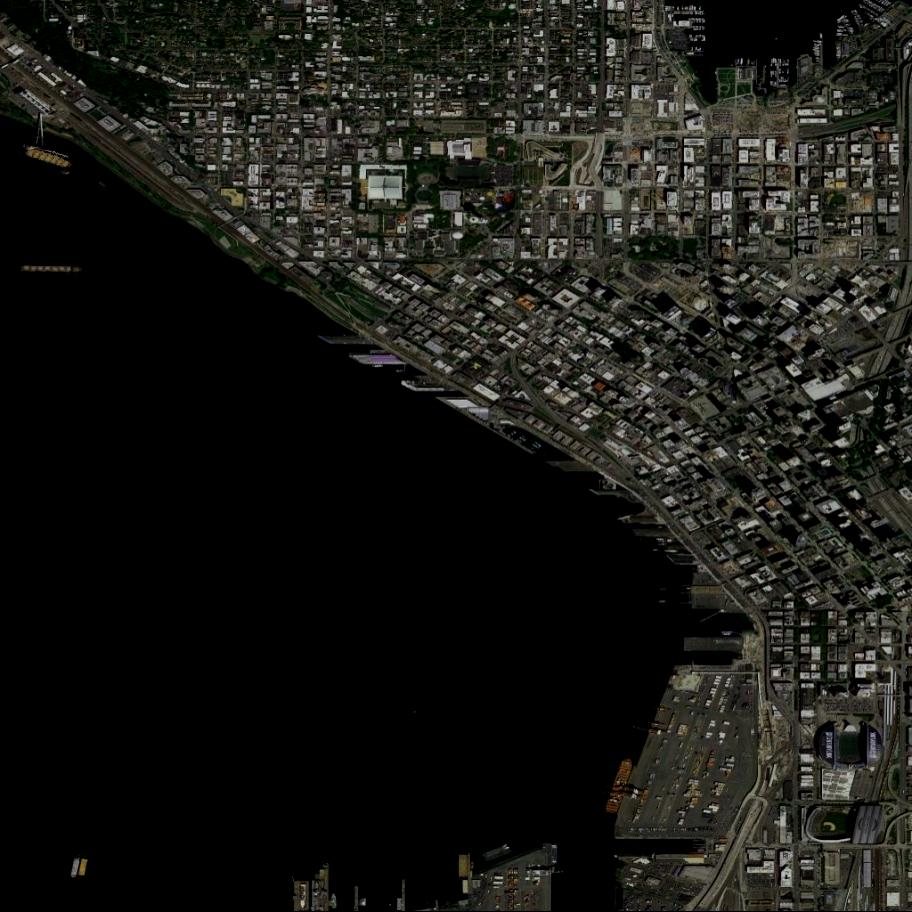ship: (606, 758, 637, 816), (21, 149, 76, 172), (655, 843, 690, 856), (617, 847, 652, 858), (21, 267, 83, 273)
